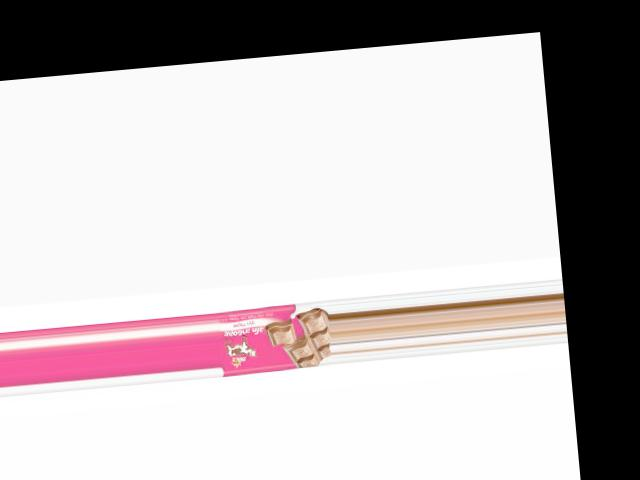chocolate: (215, 300, 332, 375)
